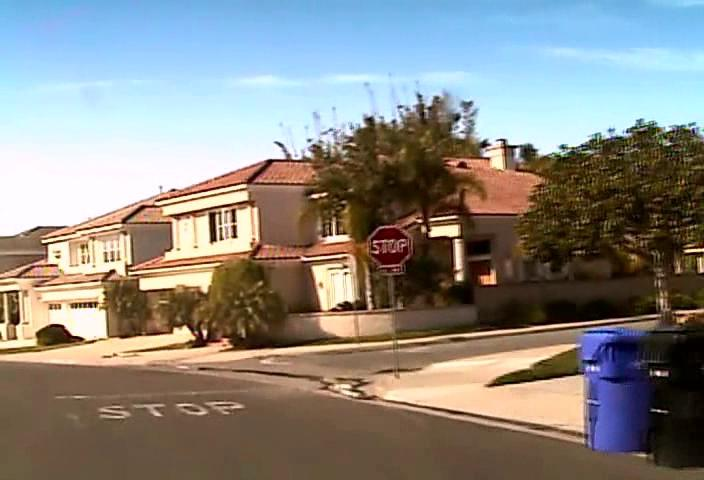stop: (366, 225, 413, 267)
